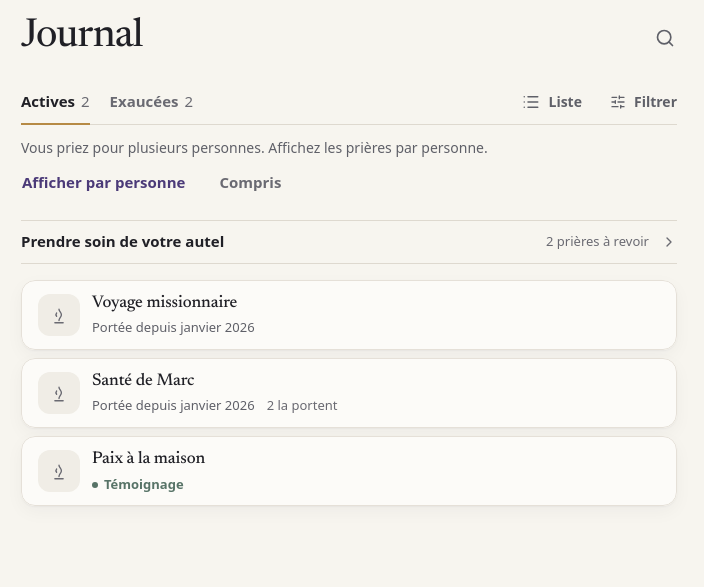
Test: Journal retrieval › finds active prayers by update text and explains the match locally
This screenshot has width=704, height=587.
Click the button named "Rechercher...": (665, 38) [643,16,687,60]
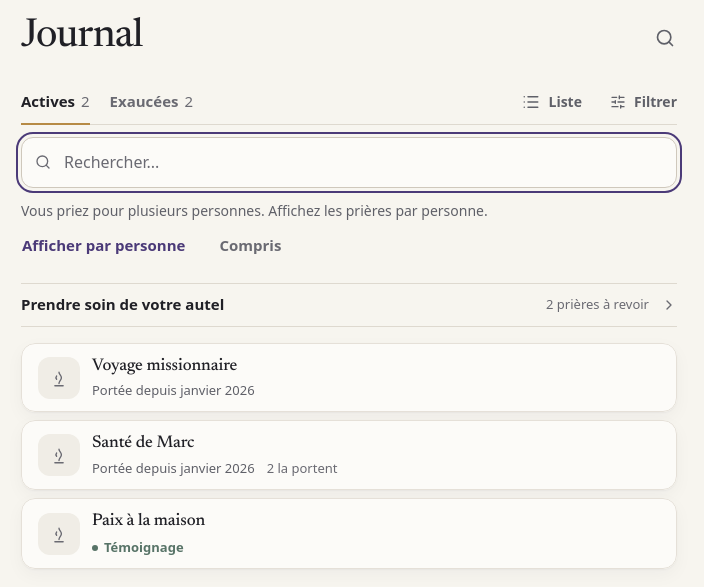
In the field labelled "Rechercher...": (349, 162) [21,137,677,188], type "opération"
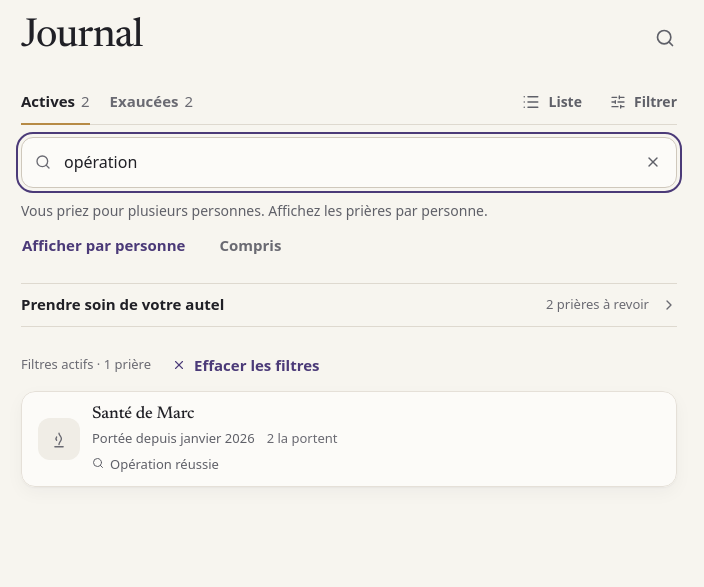
Expected: the text "Santé de Marc" is shown, [92,406,194,422]
Result: the text "Opération réussie" is shown at [110,456,219,474]
Result: the button "Voyage missionnaire" is gone
